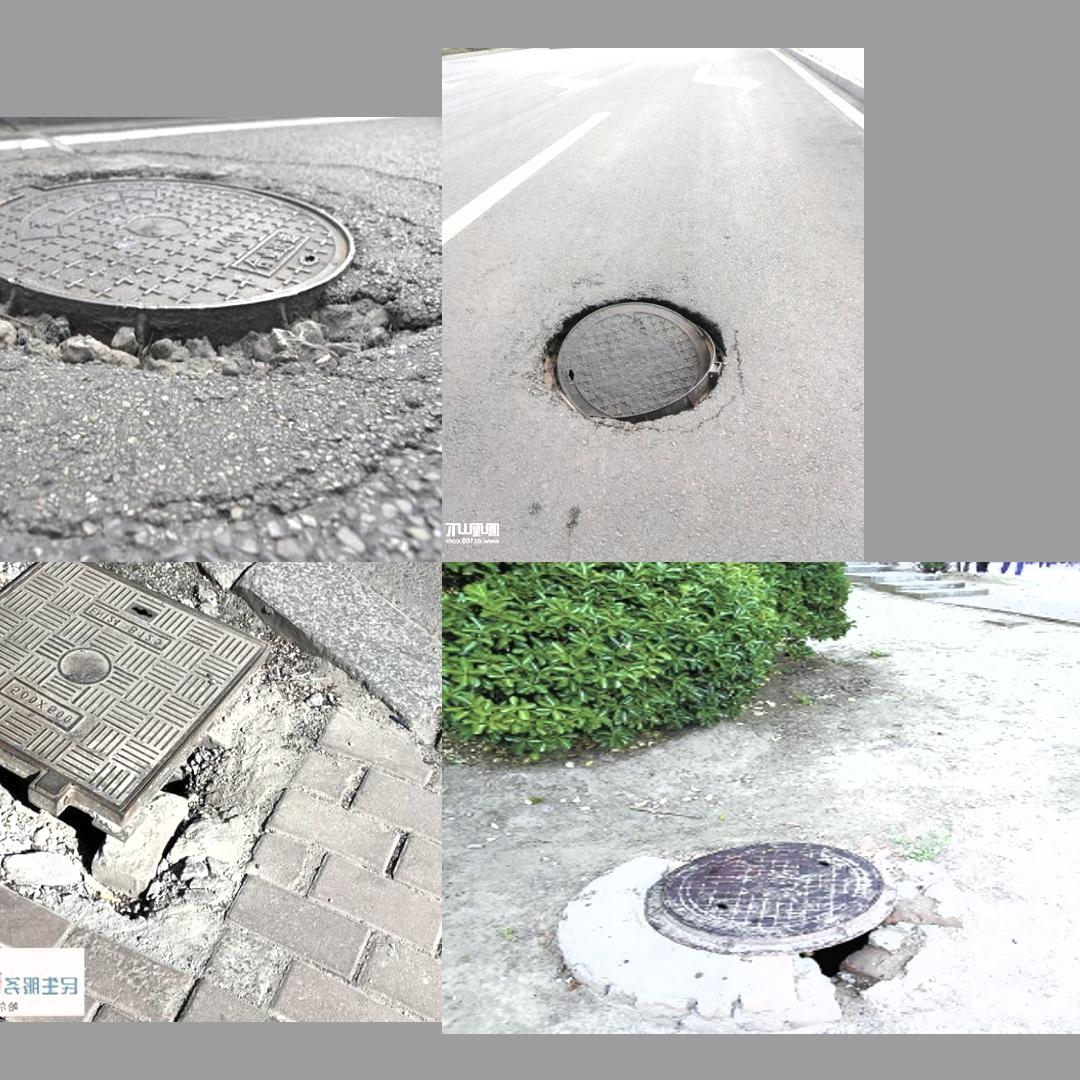circle: (0, 568, 335, 927), (0, 157, 420, 391), (545, 835, 985, 1011), (520, 286, 756, 435)
